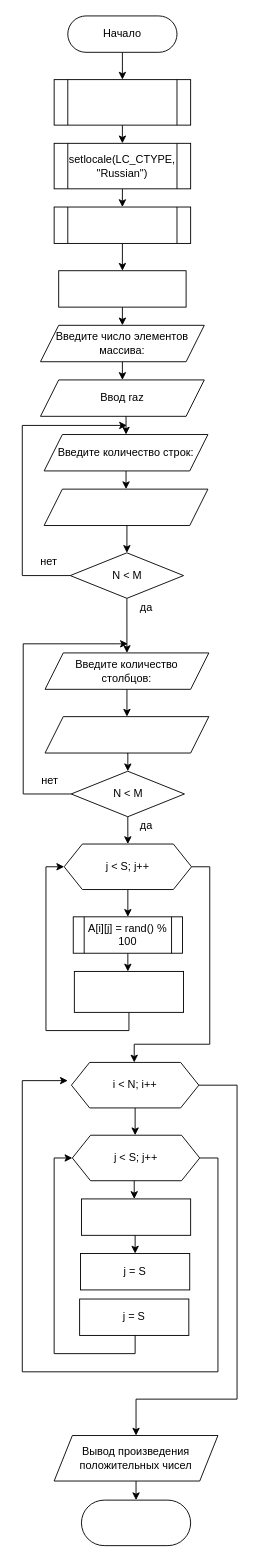
Some shapes in this 260 by 1562 pixel diagram are drawn without their labels. The shapes that lost their labels are listed below. From the top down, each one's centre as x and y in pixels, then its label:
the point at 122,102: Подключение библиотек <iostream> и <string>
the point at 122,224: system("color 5F");
the point at 122,288: Задание переменных, массивов
the point at 125,507: Ввод N
the point at 126,734: Ввод S
the point at 128,991: cout << A[i][j] << " "
the point at 136,1216: ipol = i
the point at 136,1522: Конец
